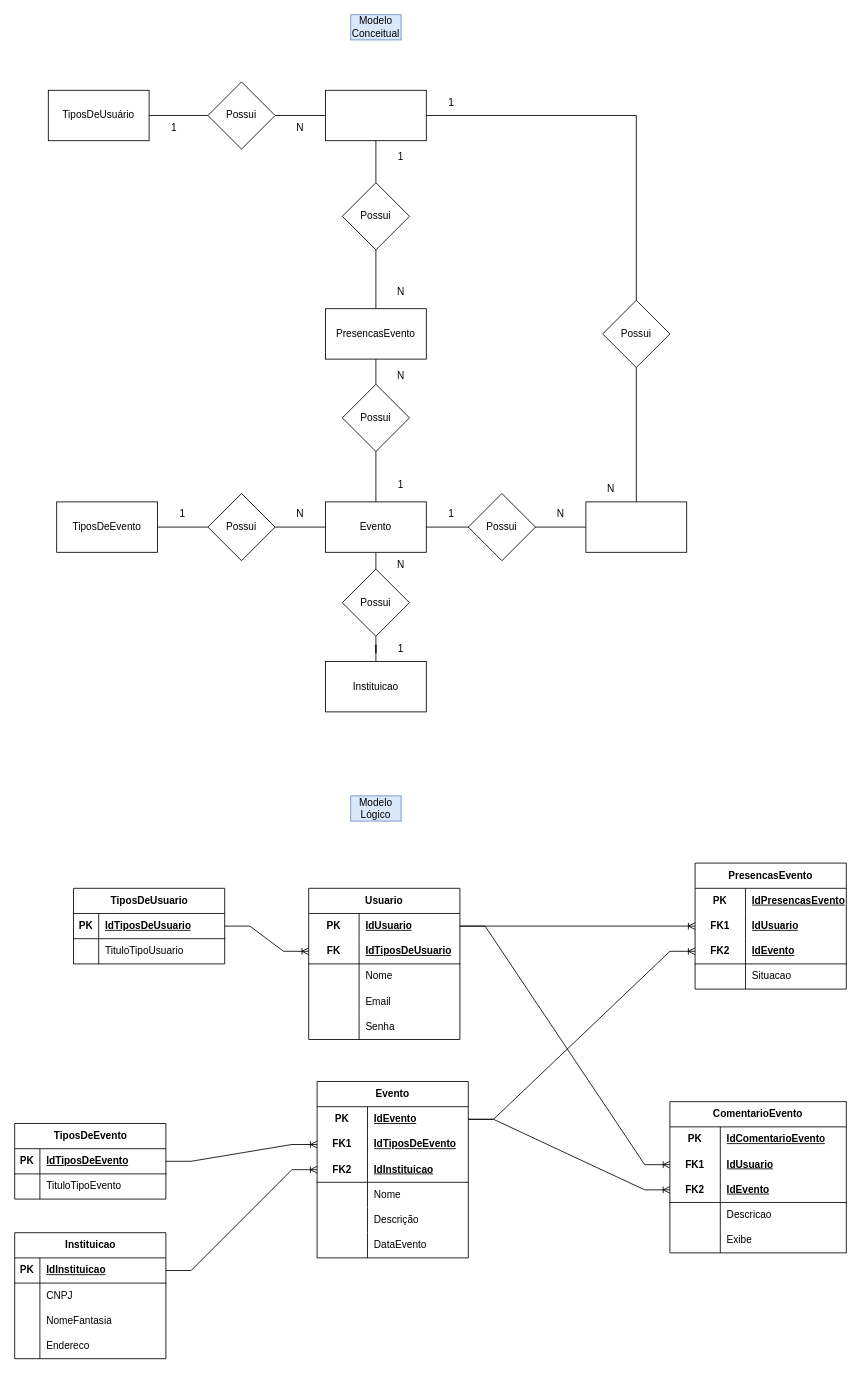
This 861x1373 diagram has some shape labels left out. The centre of each missing label's shape, as x and y in pixels:
Comentario: the point at 636,526
Usuário: the point at 375,115
